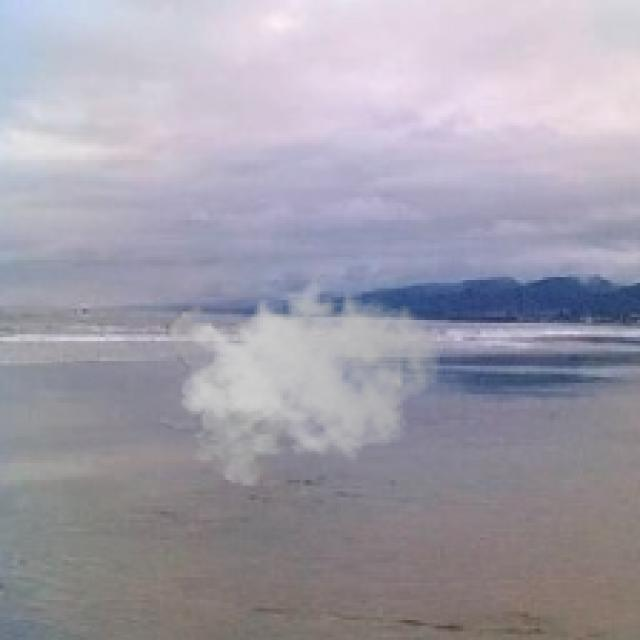smoke: (160, 268, 443, 486)
